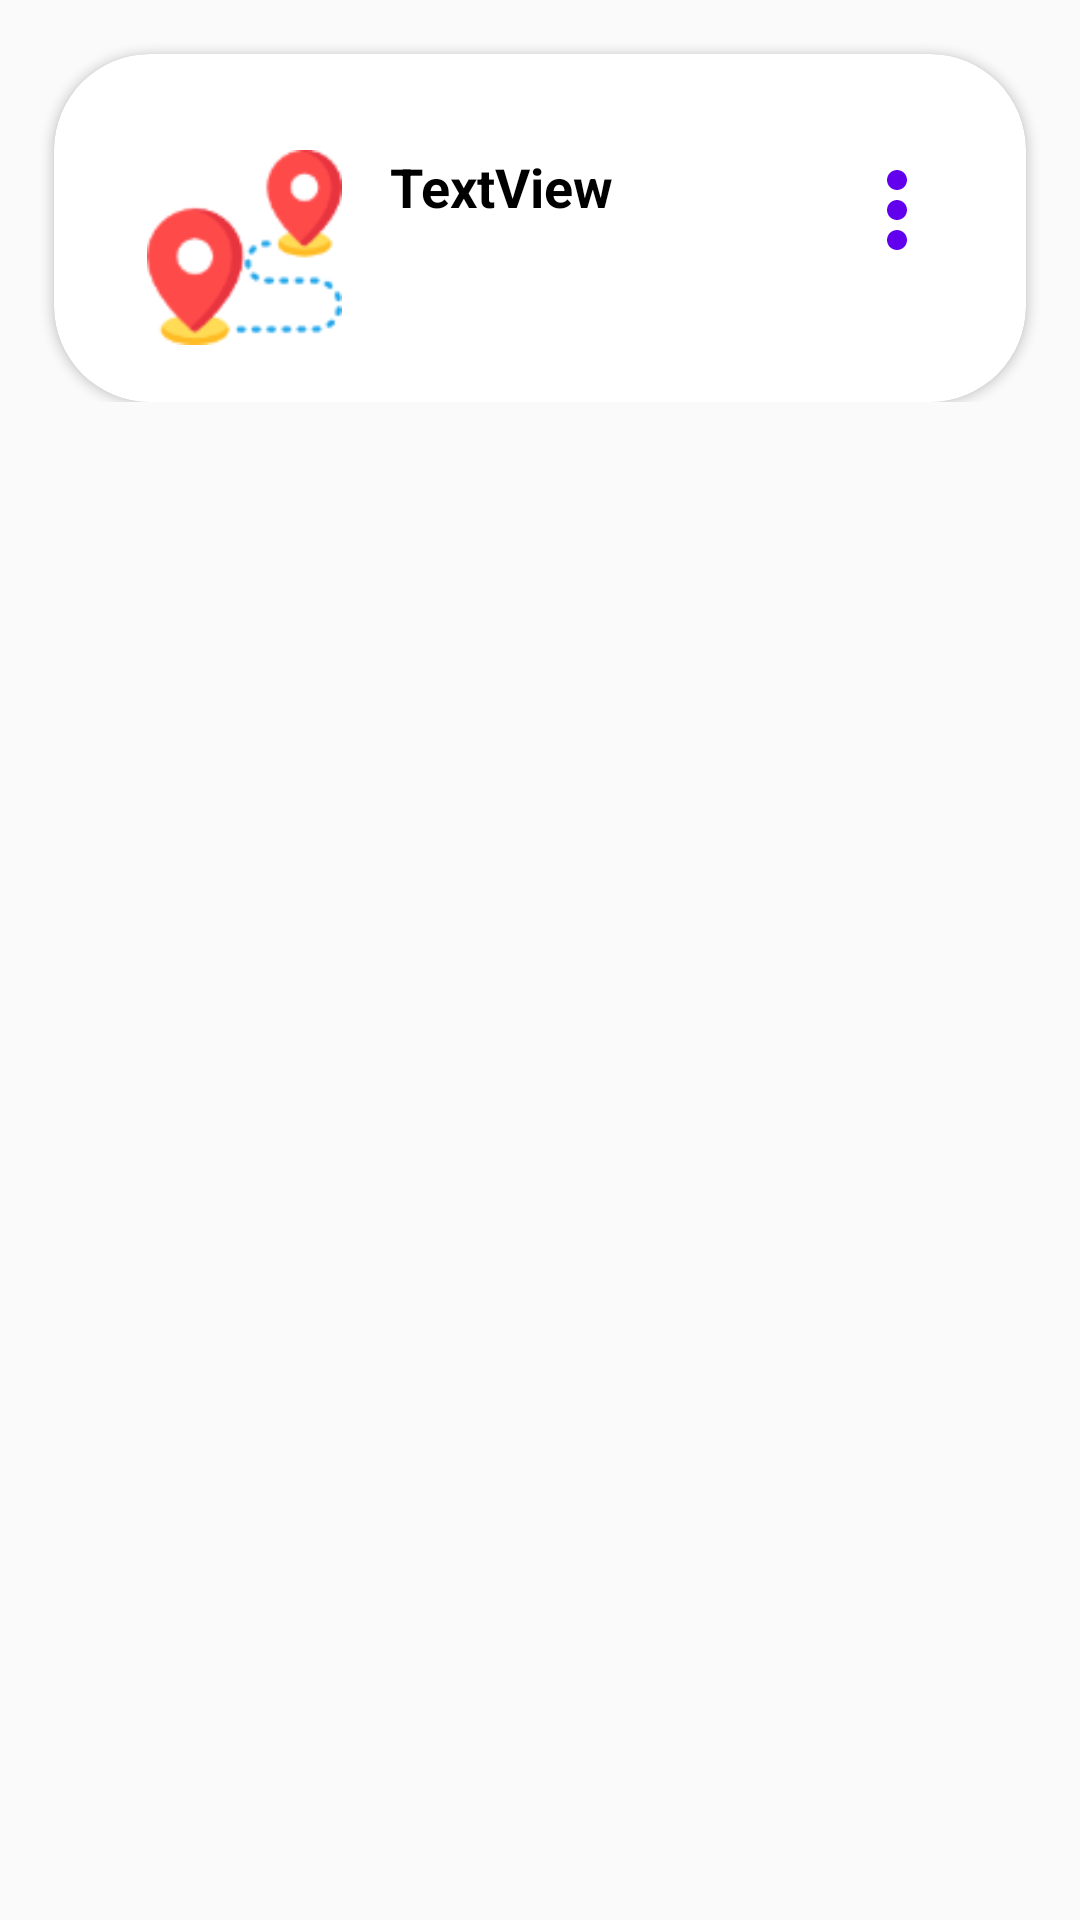

Screen size 1080x1920. Icon name, then its center in pixels as point (x, y):
more vert: point (897, 210)
